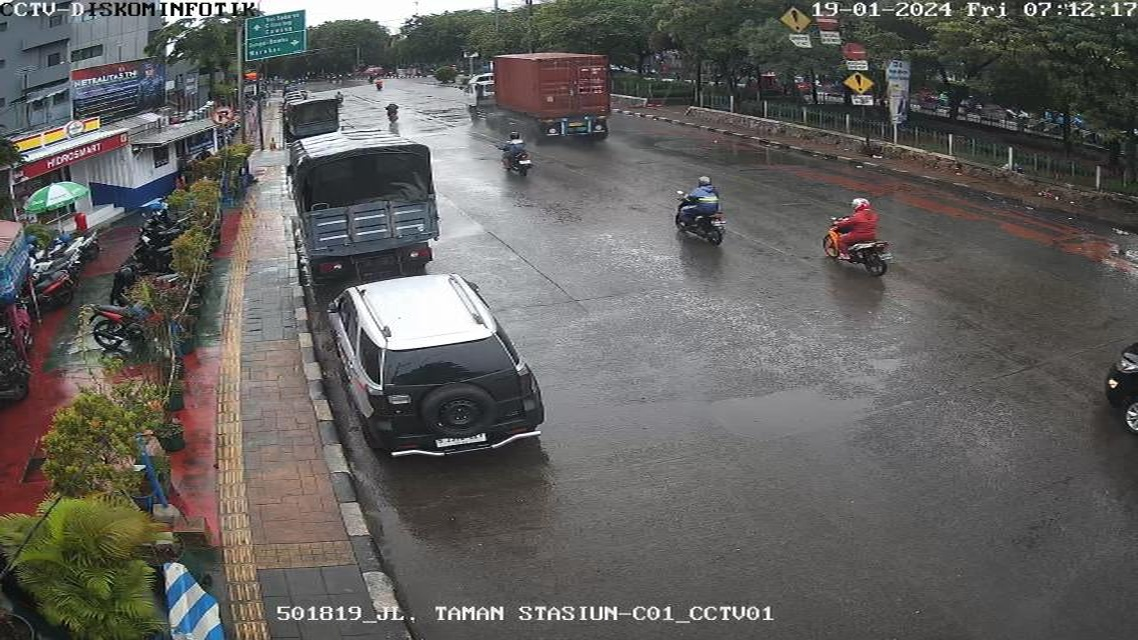Payung: (9, 178, 107, 214)
